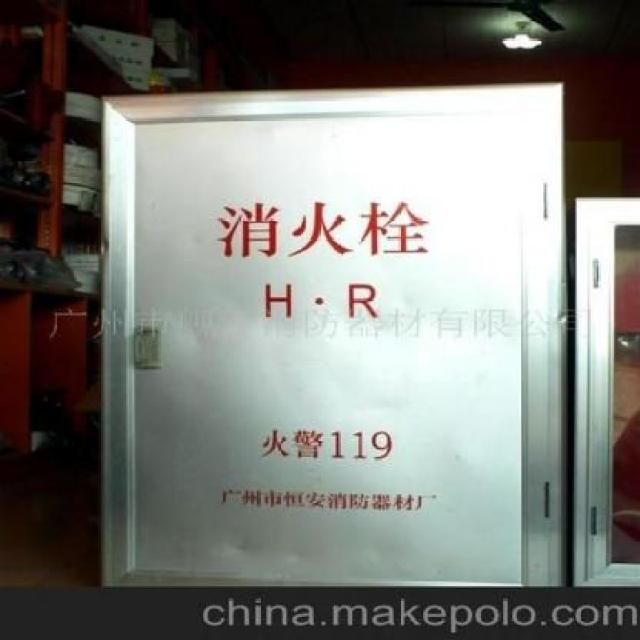firehydrant: (95, 75, 572, 590), (571, 192, 639, 592)
